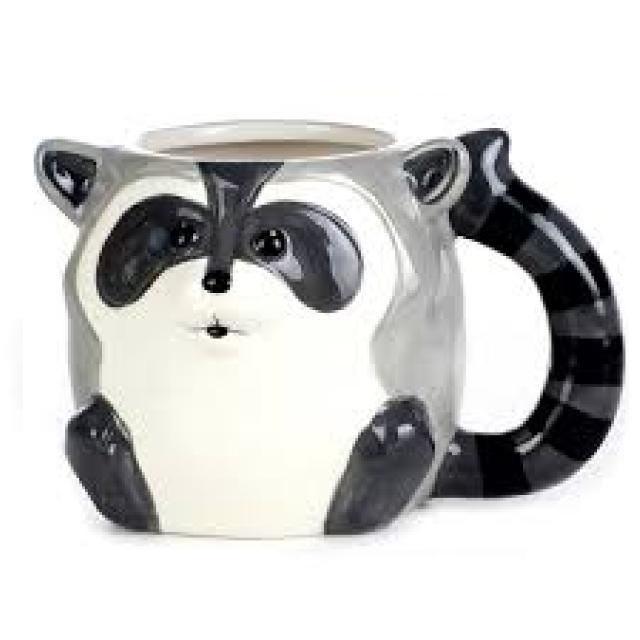Coffee Mug: (31, 122, 615, 537)
